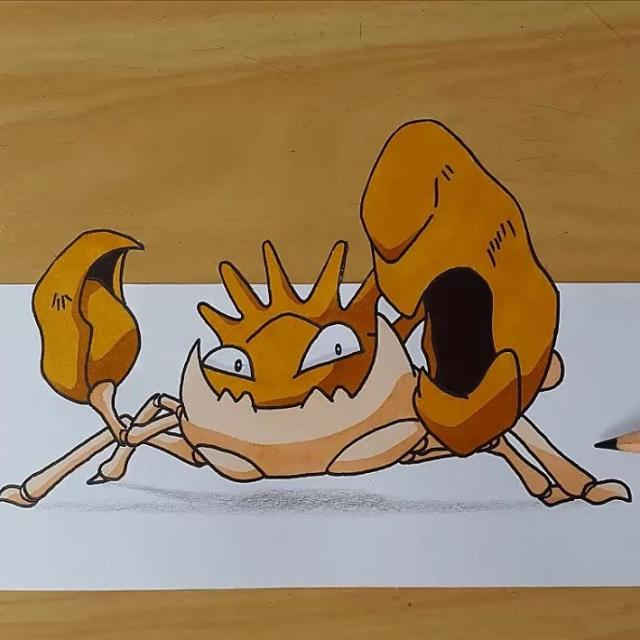Kingler: (32, 218, 562, 485)
